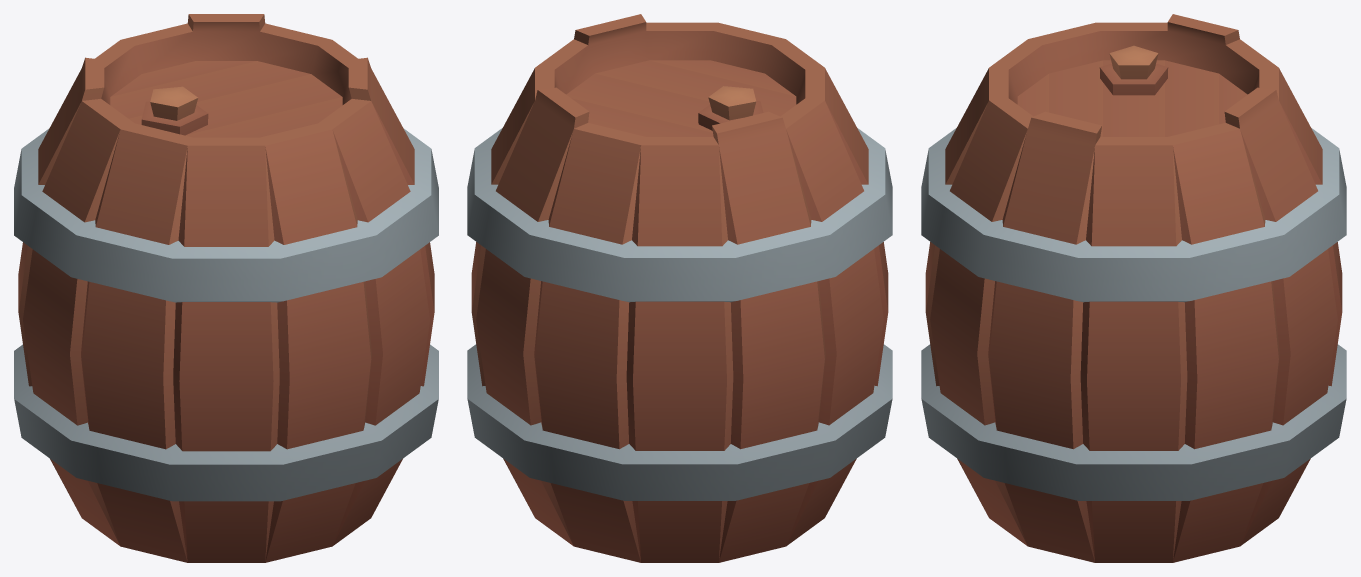
Rendered from barrel_large.obj.
The picture shows the model from 3 angles, left to right: view 1: azimuth 30°, elevation 25°; view 2: azimuth 150°, elevation 25°; view 3: azimuth 270°, elevation 25°; orthographic projection.
Visible parts, largest first — view 1: barrel_large; view 2: barrel_large; view 3: barrel_large.
Part boxes in pixels (x1,y1,x2,y2): barrel_large: [14, 14, 438, 562]; barrel_large: [467, 14, 892, 562]; barrel_large: [921, 14, 1346, 562].
Bounding box in the file's own units: 1.8 × 2 × 1.8.
1 material, 1 textured.
